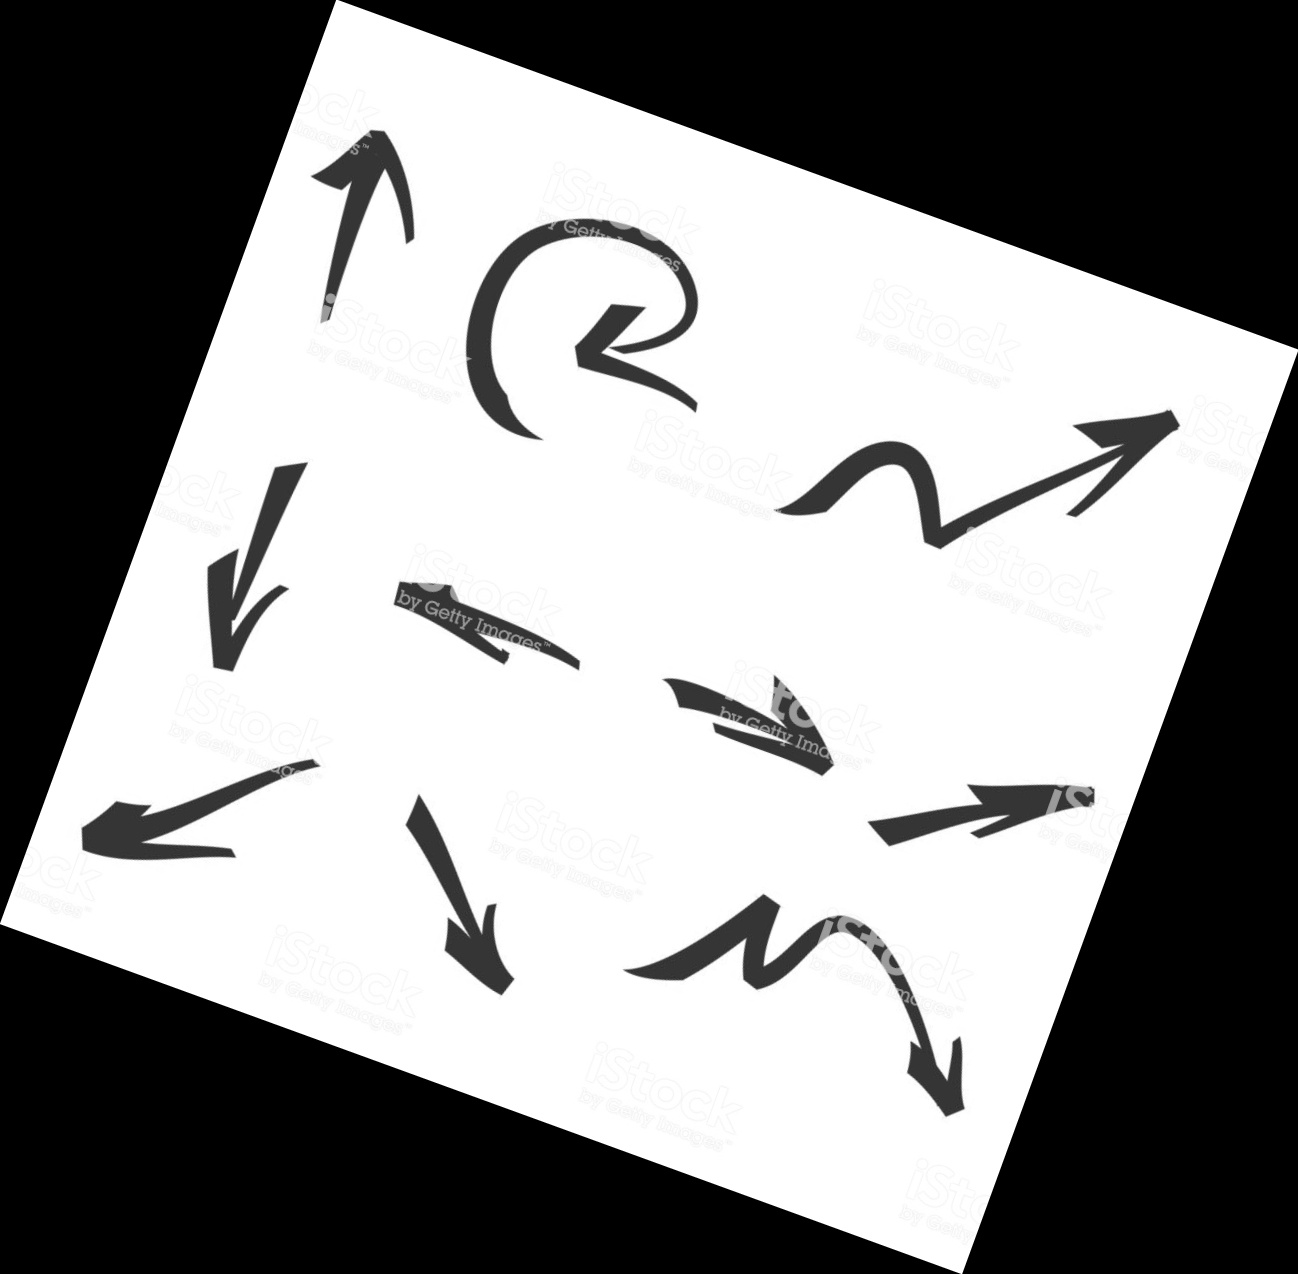arrow: (645, 643, 858, 798), (566, 269, 731, 425), (992, 401, 1187, 532), (376, 568, 543, 684), (194, 508, 301, 684), (307, 121, 420, 288), (402, 854, 525, 1001), (70, 784, 281, 867), (918, 766, 1101, 849), (875, 985, 975, 1121)
